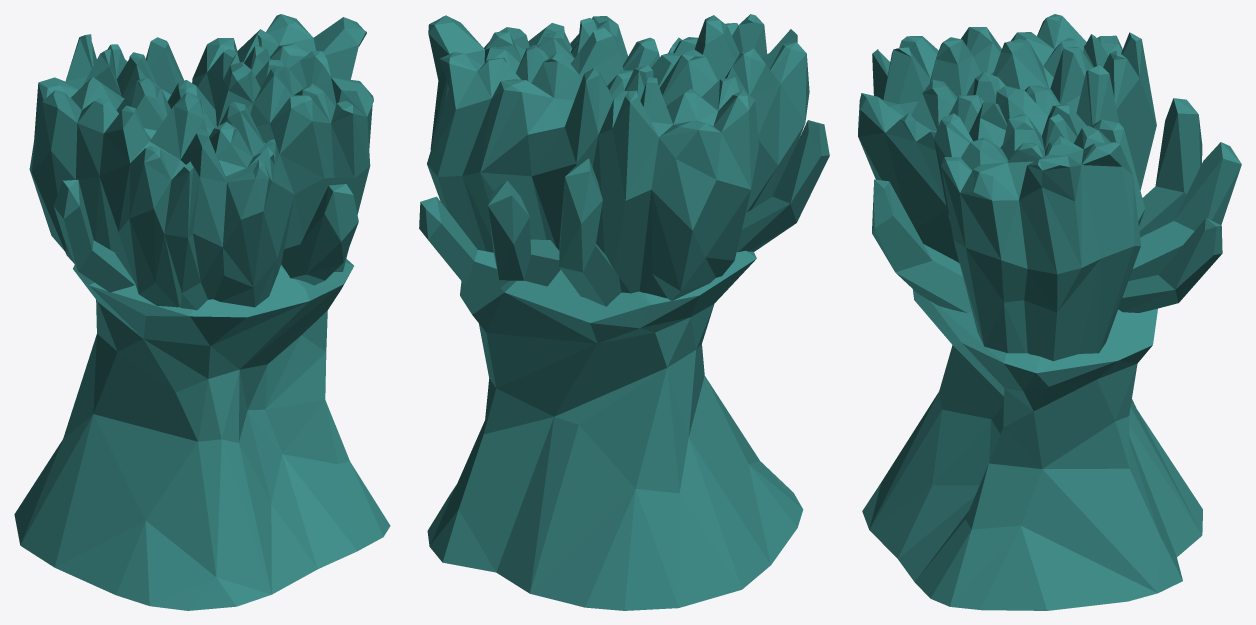
The model's file is SM_Sea_Anemone_Mature_A.fbx.
3 renders of one model, left to right at view 1: azimuth 30°, elevation 25°; view 2: azimuth 150°, elevation 25°; view 3: azimuth 270°, elevation 25°, orthographic. The views are drawn at different scales.
Visible parts, largest first — view 1: sea-anemone-mature-a; view 2: sea-anemone-mature-a; view 3: sea-anemone-mature-a.
Part boxes in pixels (x1,y1,x2,y2): sea-anemone-mature-a: [14, 14, 390, 610]; sea-anemone-mature-a: [419, 14, 829, 610]; sea-anemone-mature-a: [858, 14, 1241, 610].
Bounding box in the file's own units: 0.599 × 0.7968 × 0.5873.
